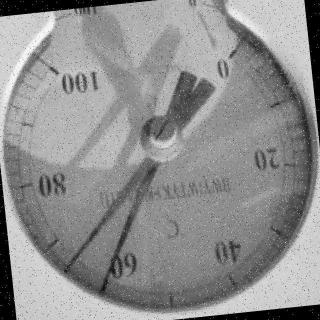gauge: (2, 1, 320, 317), (30, 42, 106, 102), (203, 21, 257, 79), (136, 110, 186, 164), (89, 284, 107, 300), (58, 263, 72, 276)
